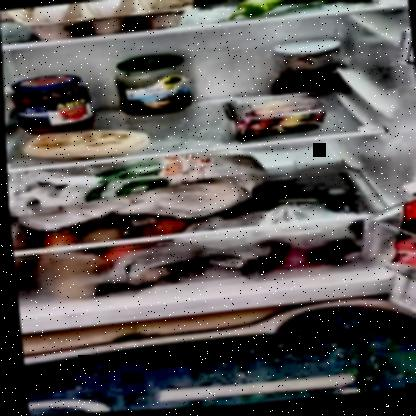eggs: (33, 0, 174, 23)
green_chillies: (225, 0, 384, 21)
olives: (203, 0, 283, 5)
tomato: (149, 216, 196, 237), (43, 229, 78, 246)
